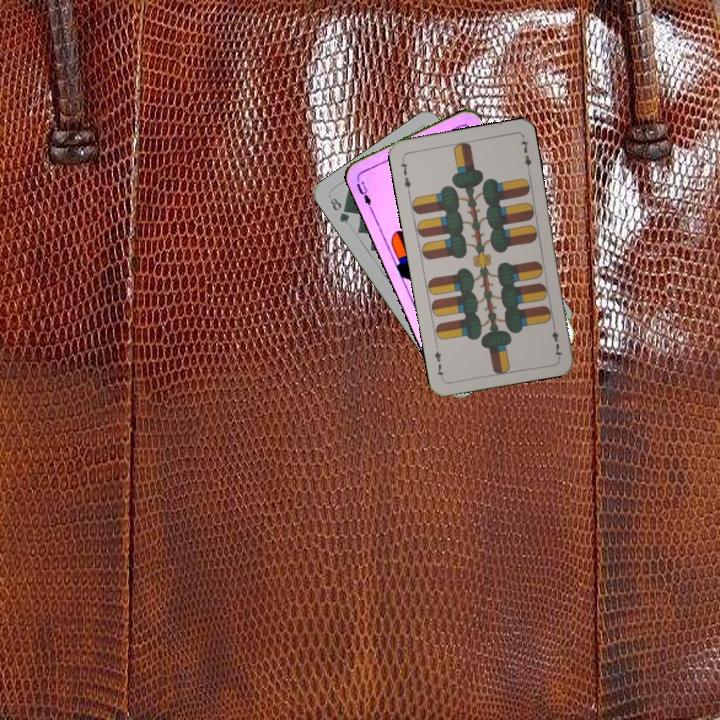E7: (396, 154, 413, 195), (548, 319, 564, 359)
EU: (353, 172, 374, 211)
G8: (326, 194, 352, 226)
